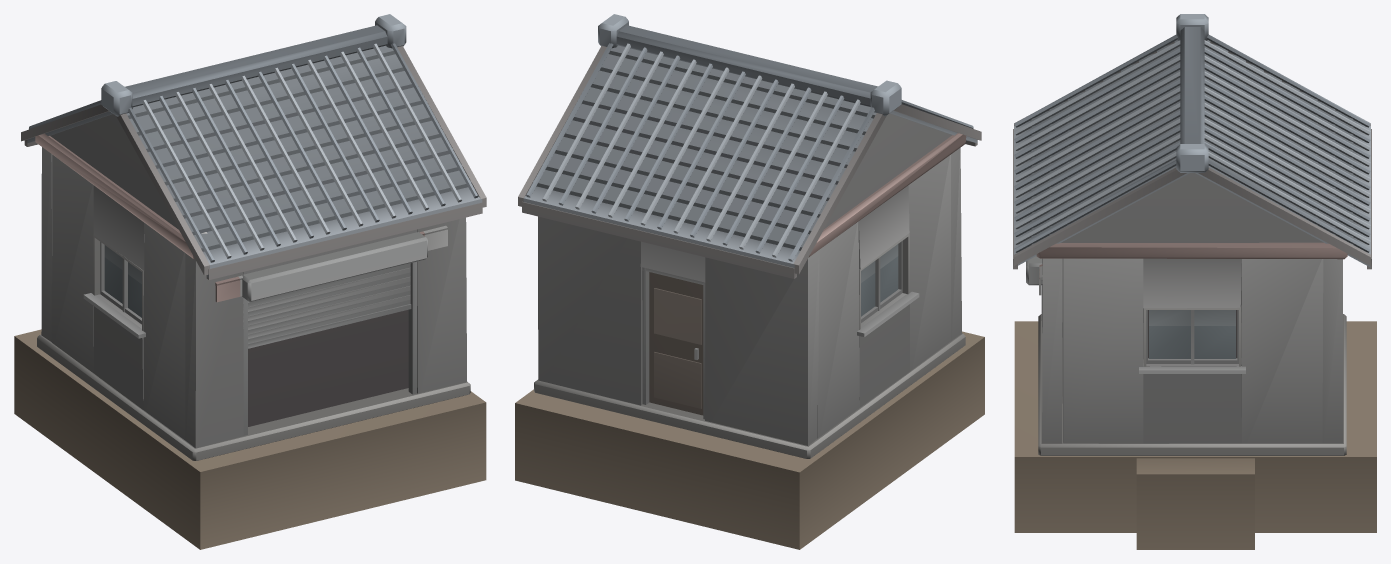
Rendered from kiosk.glb.
3 renders of one model, left to right at view 1: azimuth 30°, elevation 25°; view 2: azimuth 150°, elevation 25°; view 3: azimuth 270°, elevation 25°, orthographic. The views are drawn at different scales.
Visible parts, largest first — view 1: kiosk.001; view 2: kiosk.001; view 3: kiosk.001.
Boxes of the visible parts, x1,y1,x2,y2 form: kiosk.001: (14,14,486,549); kiosk.001: (515,14,984,549); kiosk.001: (1013,14,1376,549).
Size of the model in its own units: 4.48 by 5.22 by 4.48.
